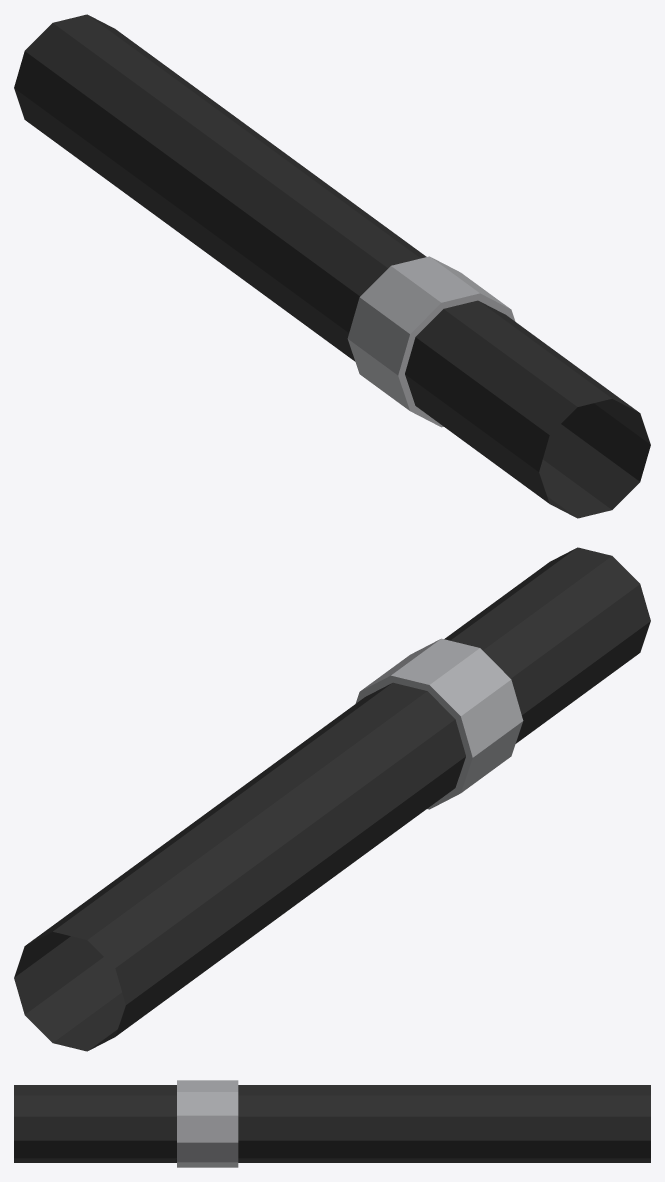
Rendered from BigPipe03.fbx.
3 views of the same model, one above another, from view 1: azimuth 30°, elevation 25°; view 2: azimuth 150°, elevation 25°; view 3: azimuth 270°, elevation 25° (orthographic). The views are drawn at different scales.
Visible parts, largest first — view 1: BigPipe03; view 2: BigPipe03; view 3: BigPipe03.
Part boxes in pixels (bbox=[...]): BigPipe03: bbox=[14, 14, 650, 518]; BigPipe03: bbox=[14, 547, 650, 1051]; BigPipe03: bbox=[14, 1080, 650, 1167].
Size of the model in its own units: 32.39 by 30.8 by 235.
